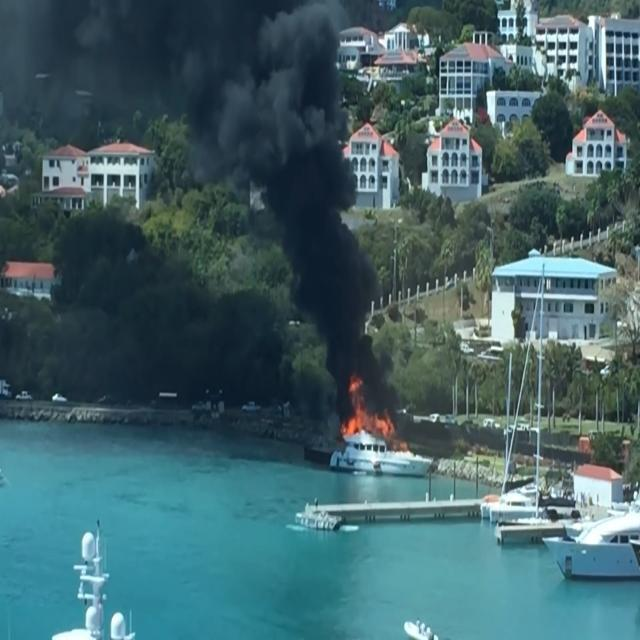Fire: (339, 387, 389, 455)
Smoke: (179, 2, 326, 179), (277, 116, 351, 285)
